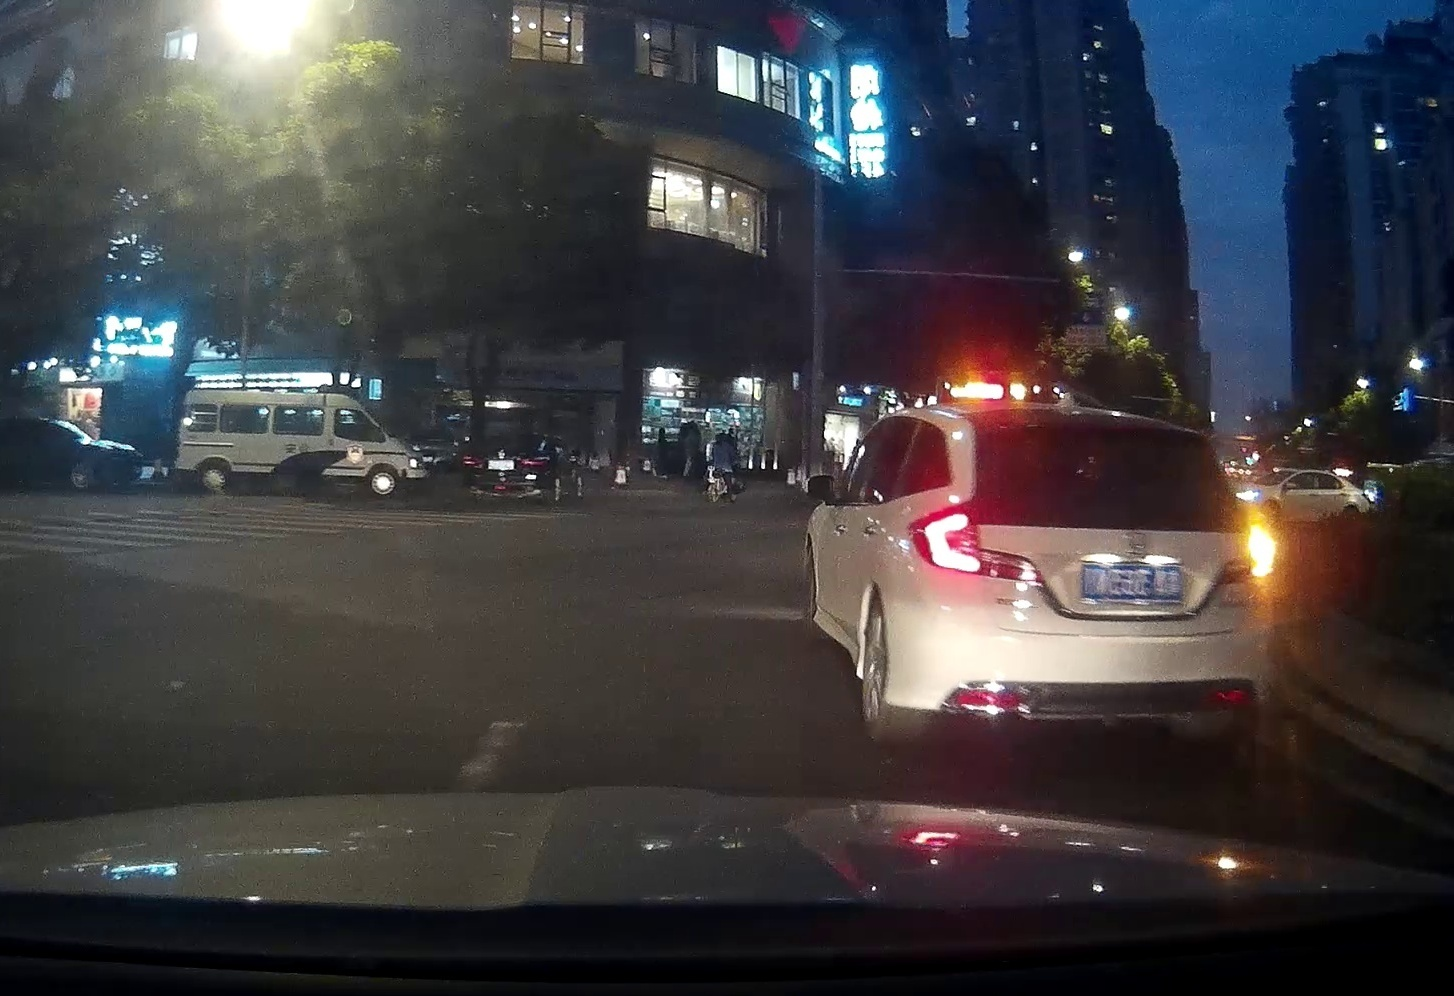L_light: (906, 503, 1043, 581), (462, 455, 486, 466)
R_light: (1208, 511, 1273, 585), (519, 457, 550, 468)
T_light: (1067, 424, 1120, 437), (497, 436, 513, 440)
night-no: (462, 431, 552, 506)
night-right: (906, 400, 1274, 744)
